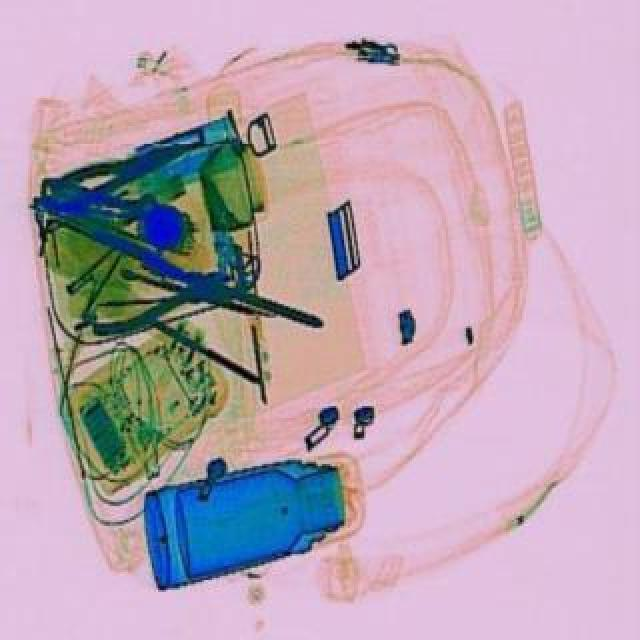wrench: (82, 226, 246, 342), (52, 122, 206, 208)
